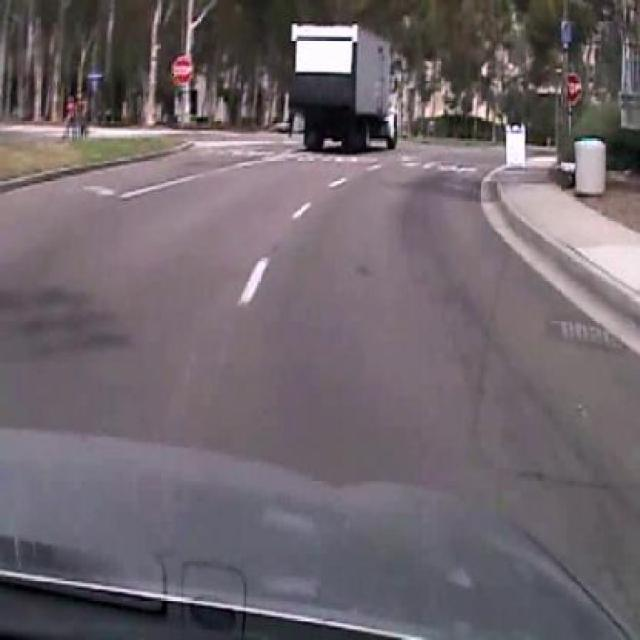stop: (172, 54, 192, 85), (562, 74, 582, 105)
